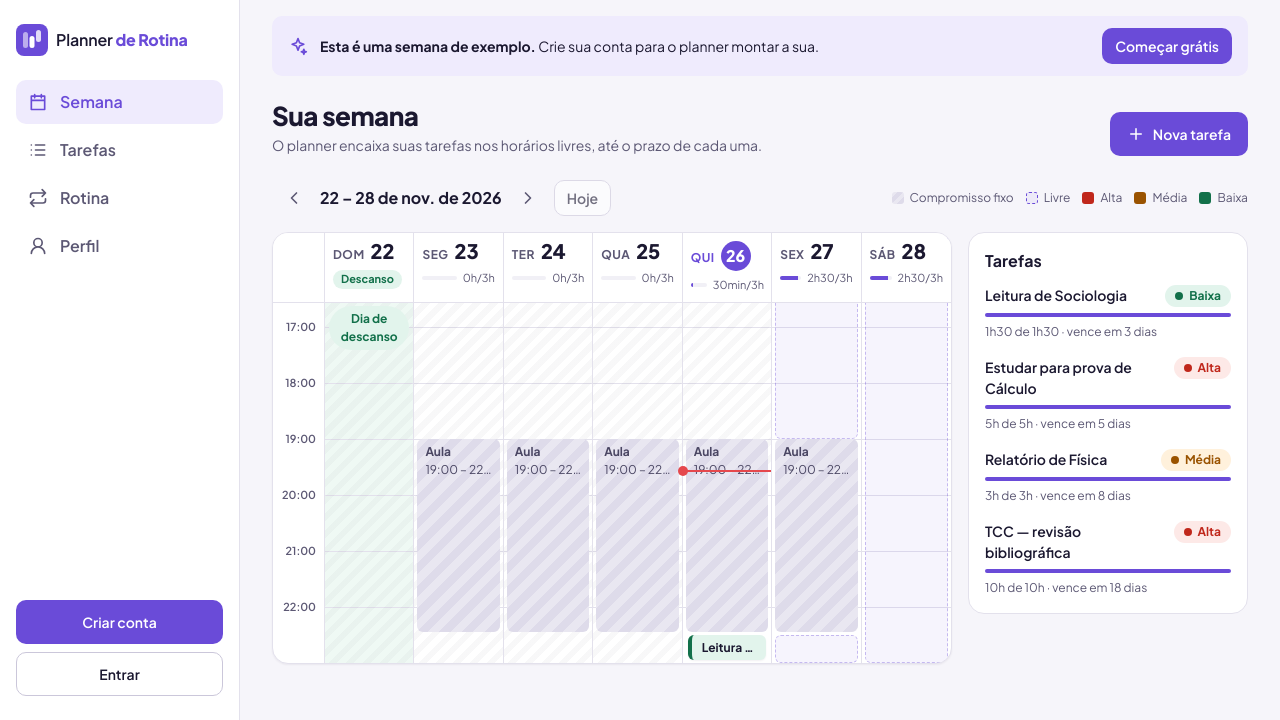
Test case: login (RF01) › cadastro com senhas diferentes mostra erro
(page scrolled)
Click the button "Começar grátis".
click(1167, 46)  # box [1102,28,1232,64]
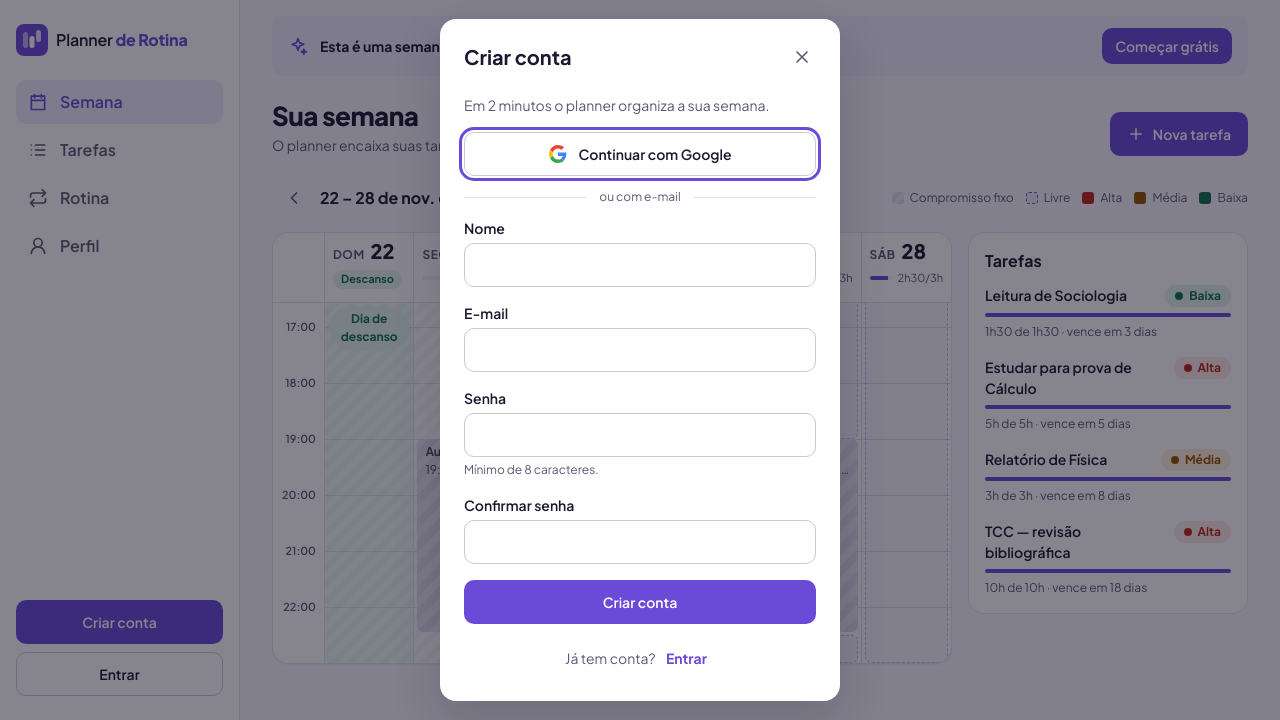
Type "Senha123" into the password field labelled "Senha".
click(640, 435); type("Senha123")  # box [464,413,816,457]
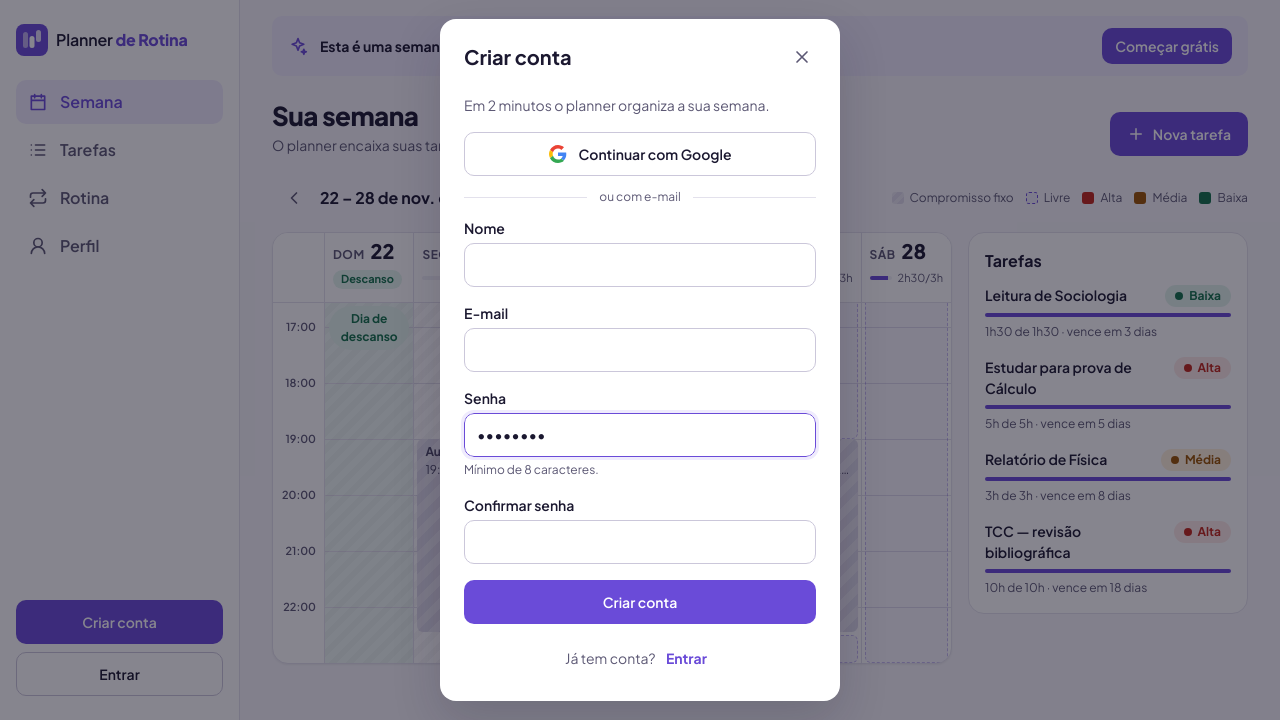
Type "Outra123" into the password field labelled "Confirmar senha".
click(640, 542); type("Outra123")  # box [464,520,816,564]
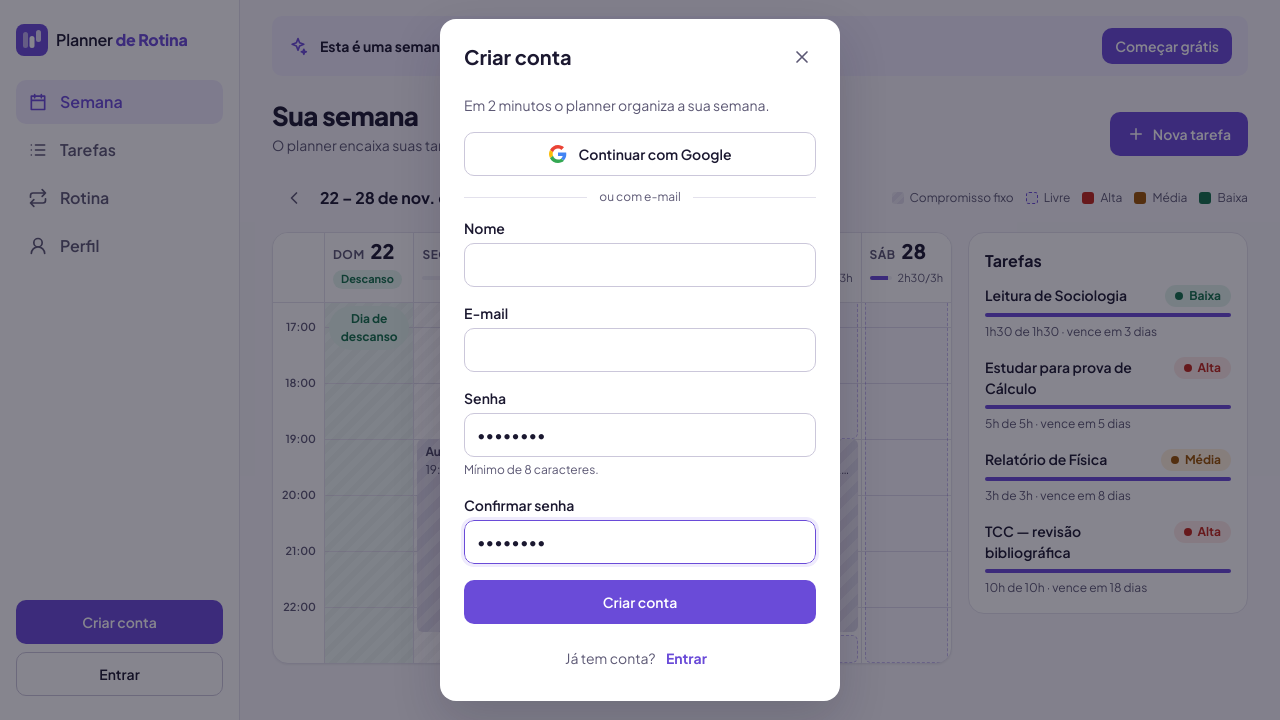
Click the button "Criar conta".
click(640, 602)  # box [464,580,816,624]
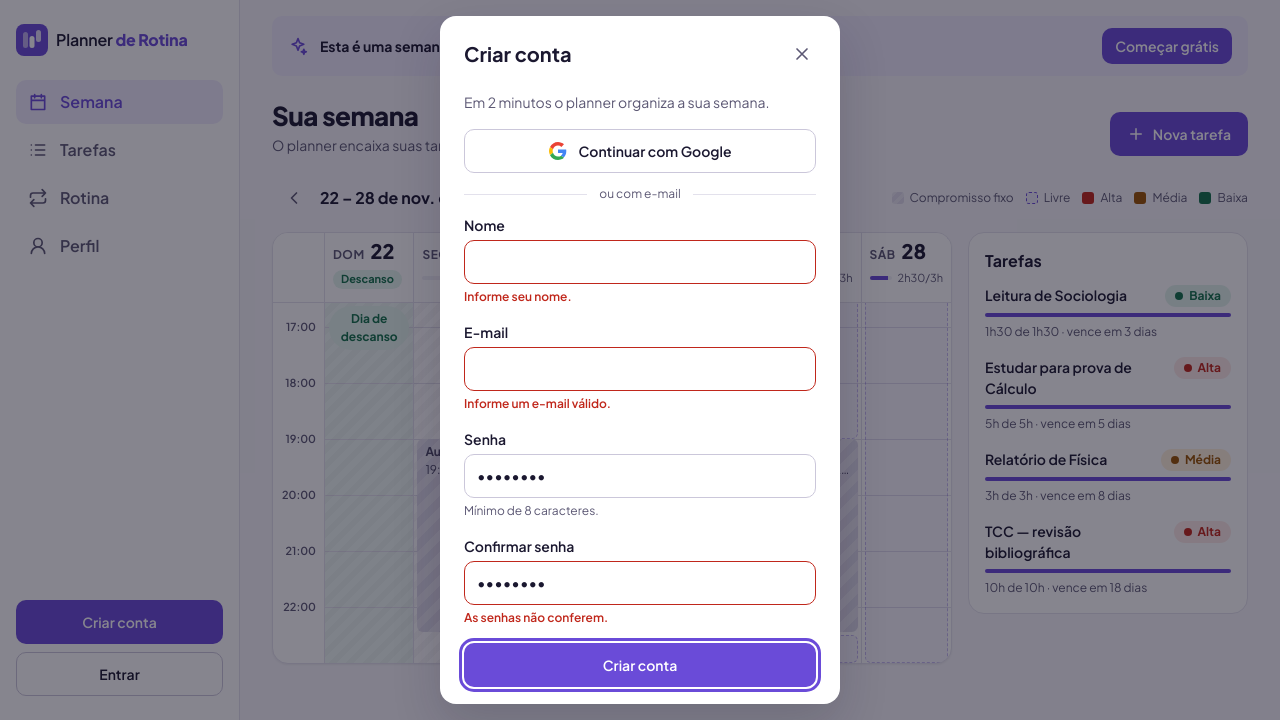
Now the text "As senhas não conferem." is shown, box [464,610,608,625]
Now the text "Informe seu nome." is shown, box [464,289,572,304]
